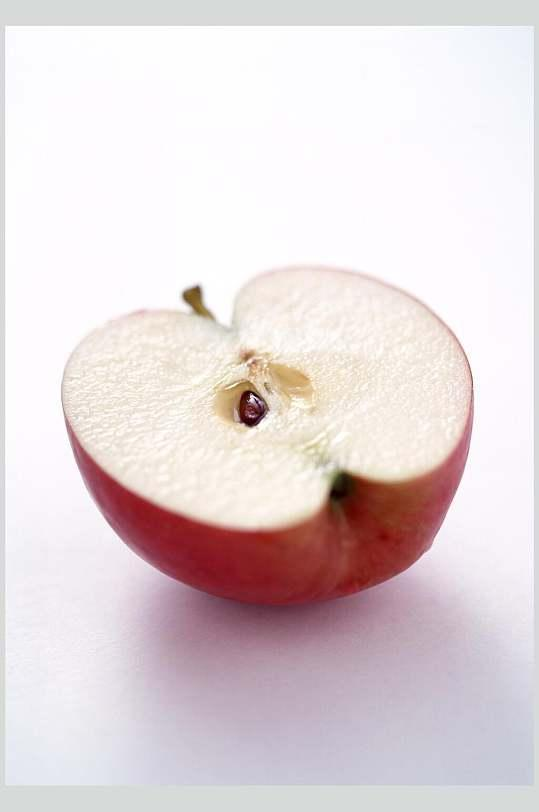apple: (62, 265, 475, 602)
